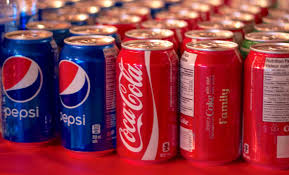Coca-Cola: (119, 43, 174, 156), (182, 46, 237, 159), (242, 45, 289, 157)
Pepsi: (1, 32, 56, 144), (59, 38, 113, 150)
